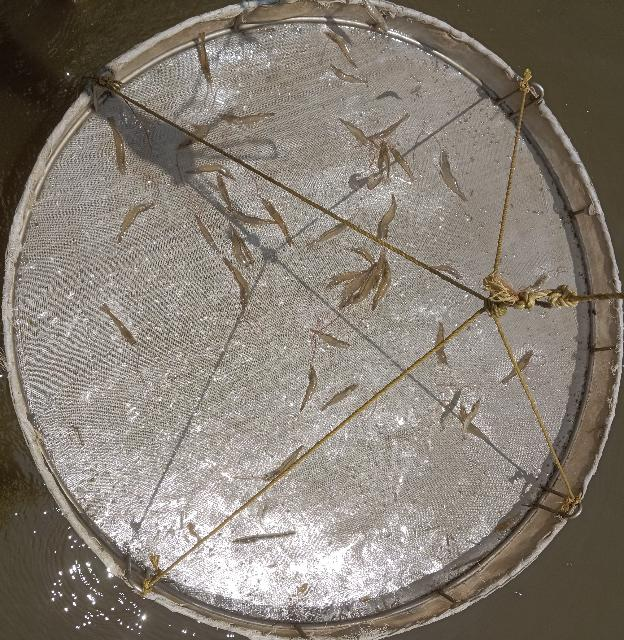shrimp: (100, 303, 138, 347), (119, 202, 158, 242), (262, 199, 294, 247), (262, 445, 304, 481), (306, 218, 354, 249), (339, 119, 380, 153), (224, 257, 250, 309), (348, 263, 380, 305), (342, 267, 374, 308), (441, 151, 467, 200), (325, 32, 358, 69), (373, 249, 392, 310), (501, 350, 533, 385), (229, 222, 254, 266), (321, 384, 360, 412), (108, 116, 126, 176), (369, 113, 410, 139), (227, 207, 276, 228), (195, 214, 220, 254), (390, 144, 416, 181), (329, 267, 372, 289), (230, 225, 251, 270), (185, 164, 237, 181), (300, 364, 318, 412), (310, 329, 352, 349), (217, 112, 277, 126), (462, 397, 481, 440), (178, 125, 209, 149), (331, 63, 368, 83), (381, 194, 397, 240), (199, 31, 213, 83), (436, 322, 449, 367), (217, 174, 232, 211), (348, 247, 376, 266), (373, 248, 385, 292), (429, 266, 464, 280), (382, 141, 391, 184)
